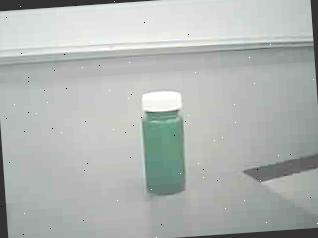Bottle C: (129, 78, 200, 208)
